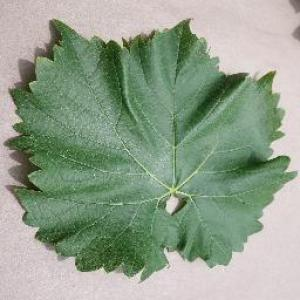Folha: (7, 18, 297, 284)
